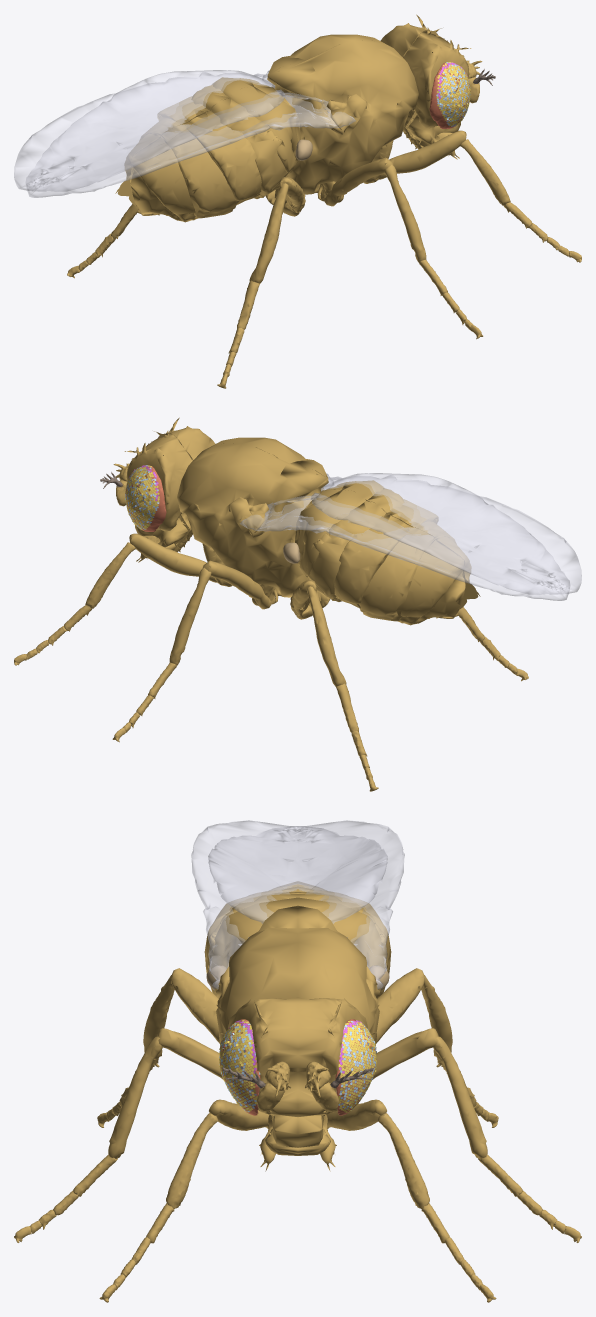
File: fly.glb
3 renders of one model, top to bottom at view 1: azimuth 30°, elevation 25°; view 2: azimuth 150°, elevation 25°; view 3: azimuth 270°, elevation 25°, orthographic. The views are drawn at different scales.
Visible parts, largest first — view 1: r_wing_mesh, c_thorax_mesh, l_wing_mesh, c_abdomen6_mesh, c_abdomen4_mesh, c_abdomen5_mesh, c_head_mesh, c_abdomen3_mesh, c_abdomen12_mesh, ommatidia_right, rf_trochanterfemur_mesh, rh_tibia_mesh (+7 smaller); view 2: l_wing_mesh, c_thorax_mesh, r_wing_mesh, c_abdomen6_mesh, c_abdomen4_mesh, c_abdomen5_mesh, c_head_mesh, c_abdomen3_mesh, c_abdomen12_mesh, ommatidia_left, lf_trochanterfemur_mesh, lh_tibia_mesh (+7 smaller); view 3: l_wing_mesh, r_wing_mesh, c_thorax_mesh, c_head_mesh, c_abdomen12_mesh, ommatidia_right, ommatidia_left, c_rostrum_mesh, lm_tibia_mesh, rm_tibia_mesh, lh_trochanterfemur_mesh, rh_trochanterfemur_mesh (+13 smaller).
Part boxes in pixels (x1,y1,x2,y2): r_wing_mesh: (25,70,355,197); c_thorax_mesh: (267,34,418,194); l_wing_mesh: (14,70,285,191); c_abdomen6_mesh: (115,130,197,222); c_abdomen4_mesh: (157,96,261,205); c_abdomen5_mesh: (140,118,236,218); c_head_mesh: (380,14,471,128); c_abdomen3_mesh: (191,85,289,198); c_abdomen12_mesh: (212,77,300,174); ommatidia_right: (436,62,470,126); rf_trochanterfemur_mesh: (378,130,466,179); rh_tibia_mesh: (249,183,288,283); l_wing_mesh: (240,473,570,600); c_thorax_mesh: (177,437,328,597); r_wing_mesh: (310,473,581,594); c_abdomen6_mesh: (398,533,480,625); c_abdomen4_mesh: (334,499,438,608); c_abdomen5_mesh: (359,521,455,621); c_head_mesh: (124,417,215,531); c_abdomen3_mesh: (306,488,404,601); c_abdomen12_mesh: (295,480,383,577); ommatidia_left: (125,465,159,530); lf_trochanterfemur_mesh: (129,533,217,582); lh_tibia_mesh: (307,586,346,686); l_wing_mesh: (208,820,404,989); r_wing_mesh: (191,820,387,989); c_thorax_mesh: (214,905,381,1045); c_head_mesh: (228,997,367,1116); c_abdomen12_mesh: (207,897,388,969); ommatidia_right: (219,1019,260,1112); ommatidia_left: (335,1020,376,1112); c_rostrum_mesh: (259,1114,336,1171); lm_tibia_mesh: (433,1036,487,1158); rm_tibia_mesh: (108,1036,162,1158); lh_trochanterfemur_mesh: (376,968,424,1043); rh_trochanterfemur_mesh: (171,968,219,1043).
Size of the model in its own units: 3.83 by 1.84 by 3.01.
